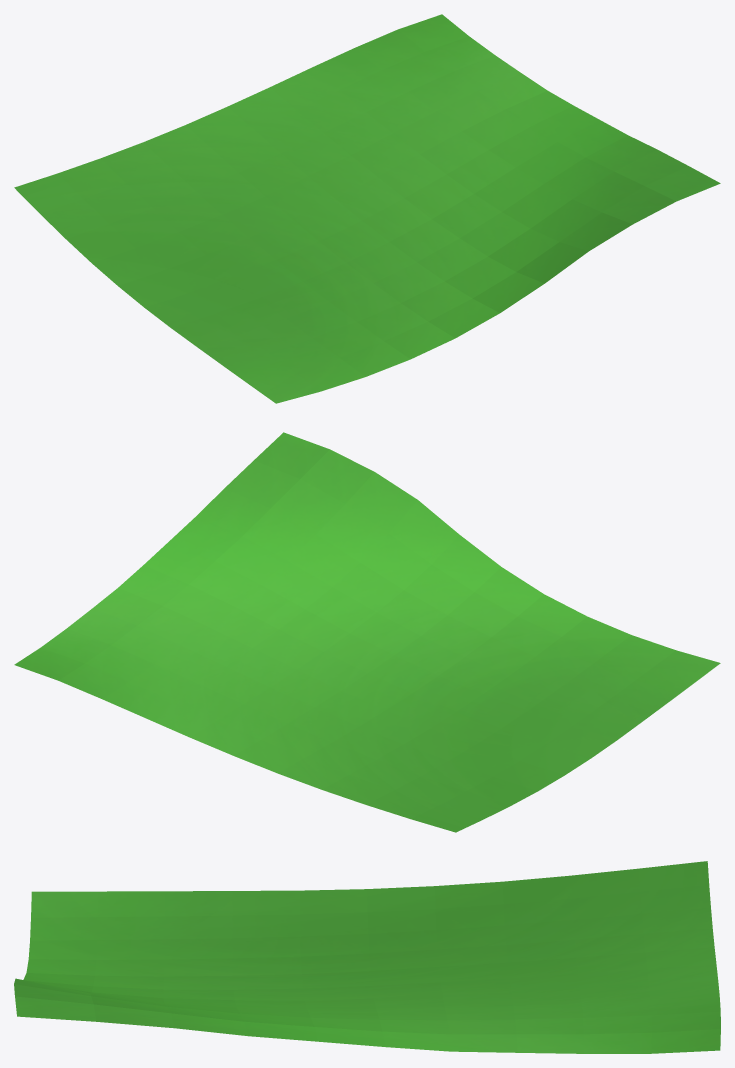
Rendered from ground_0_1.glb.
3 views of the same model, one above another, from view 1: azimuth 30°, elevation 25°; view 2: azimuth 150°, elevation 25°; view 3: azimuth 270°, elevation 25° (orthographic). The views are drawn at different scales.
Parts seen in each view (by area): view 1: Ground_2_1; view 2: Ground_2_1; view 3: Ground_2_1.
Boxes of the visible parts, x1=… form: Ground_2_1: x1=14, y1=14, x2=720, y2=403; Ground_2_1: x1=14, y1=432, x2=720, y2=832; Ground_2_1: x1=14, y1=861, x2=720, y2=1053.
Size of the model in its own units: 89.34 by 22.74 by 96.35.
1 material, 1 textured.
